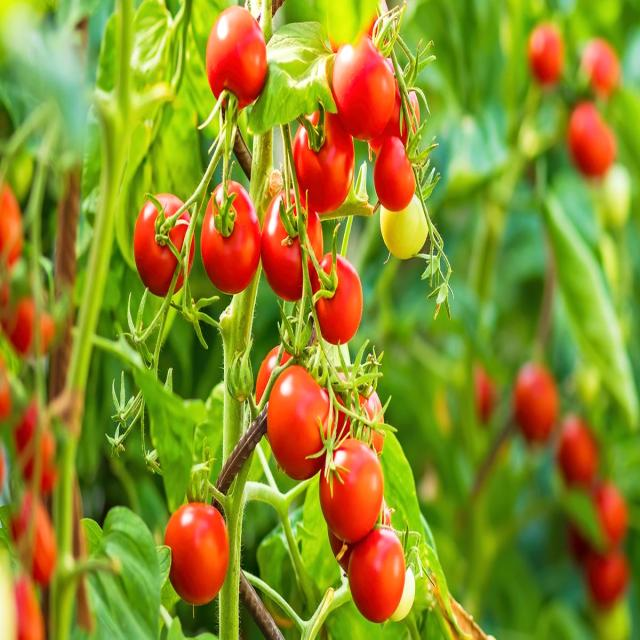ripe2: (205, 4, 267, 115), (320, 436, 383, 544), (267, 365, 325, 481), (201, 183, 260, 296), (333, 41, 395, 143), (165, 503, 228, 603), (133, 193, 192, 295), (294, 115, 354, 210), (348, 534, 405, 624), (261, 190, 308, 297), (311, 254, 364, 342), (375, 145, 416, 209)
